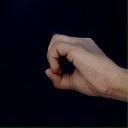hand: (44, 33, 127, 103)
